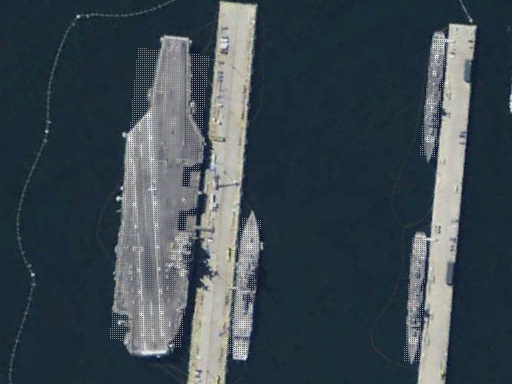ship: (105, 33, 216, 363), (227, 211, 264, 363), (420, 29, 448, 164), (403, 231, 429, 368)
